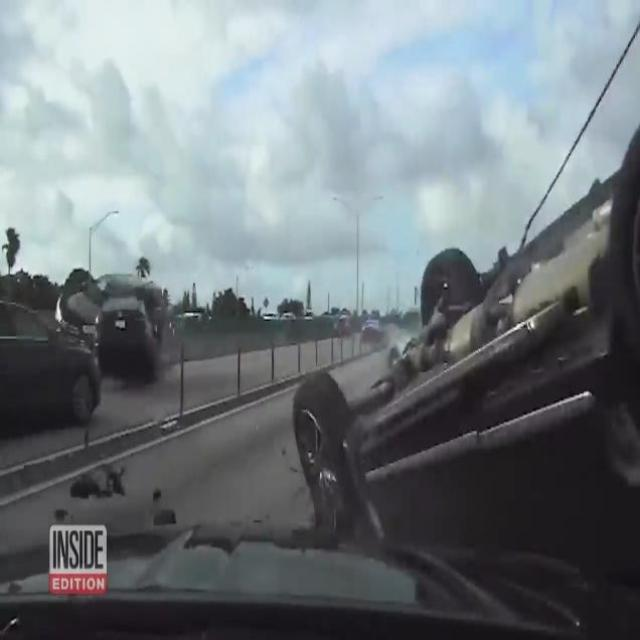accident: (296, 119, 640, 561)
